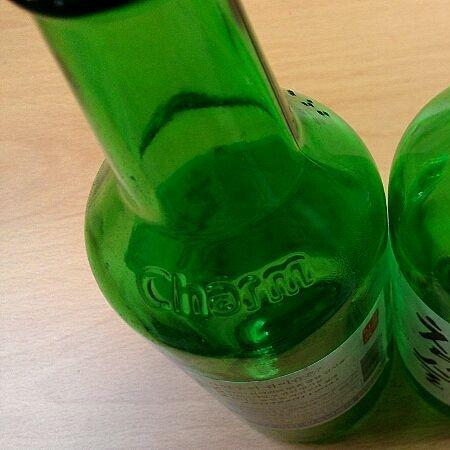soju: (4, 1, 450, 441)
